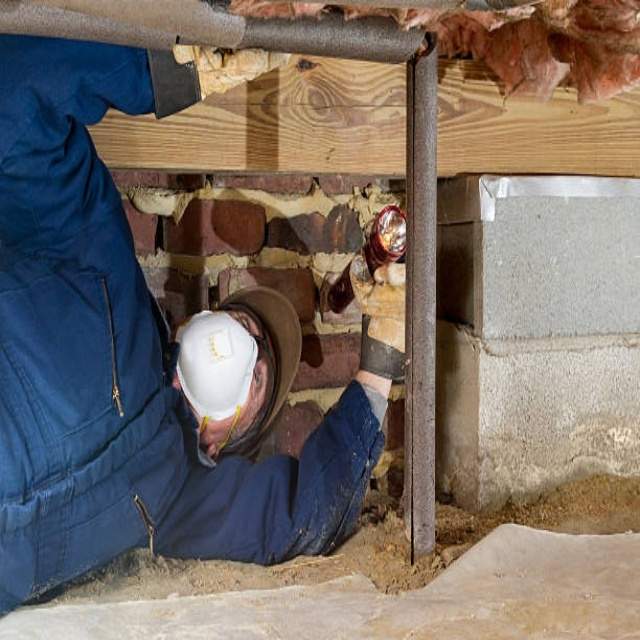Gafas: (225, 295, 275, 458)
Guantes: (141, 45, 294, 119), (347, 249, 407, 389)
Mascara: (175, 309, 259, 427)
